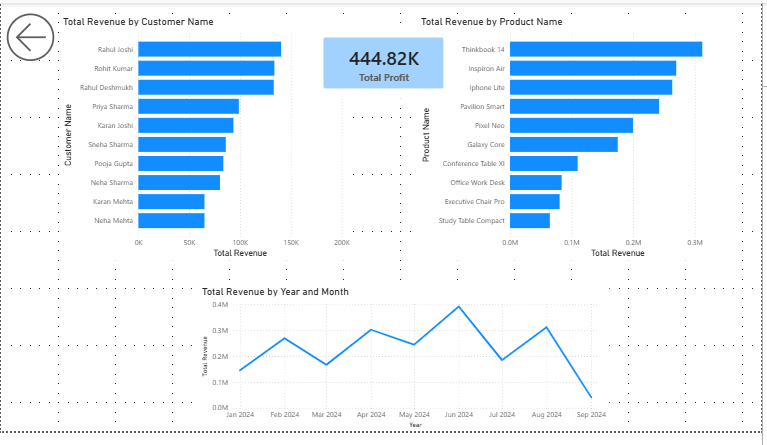

The page's visual inventory and layout, read from the dashboard file:
{"tool":"powerbi","page":{"name":"Region Deatail","canvas":[1280,720],"ordinal":5},"visuals":[{"type":"actionButton","box":[0,0,99.4,116.2],"z":0},{"type":"barChart","fields":{"Category":["Customers.Customer Name"],"Y":["Measures (2).Total Revenue"]},"box":[99.4,20.2,493.5,414.3],"z":1000},{"type":"barChart","fields":{"Y":["Measures (2).Total Revenue"],"Category":["Products.Product Name"]},"box":[702.3,20.2,537.3,414.3],"z":2000},{"type":"cardVisual","fields":{"Data":["Measures (2).Total Profit"]},"box":[525.5,40.4,237.5,121.3],"z":3000},{"type":"lineChart","fields":{"Y":["Measures (2).Total Revenue"],"Category":["Calender.Date.Variation.Date Hierarchy.Year","Calender.Date.Variation.Date Hierarchy.Month"]},"box":[333.5,474.9,690.5,245.9],"z":4000}]}

Visuals, with their boxes on the page's 1280x720 design canvas (x1, y1, x2, y2). These are canvas units, not pixel positions in the 767x445 screenshot, which may show the page scaled, cropped or inside an application window:
actionButton: left=0, top=0, right=99, bottom=116
barChart - Customers.Customer Name x Measures (2).Total Revenue: left=99, top=20, right=593, bottom=434
barChart - Measures (2).Total Revenue x Products.Product Name: left=702, top=20, right=1240, bottom=434
cardVisual - Measures (2).Total Profit: left=526, top=40, right=763, bottom=162
lineChart - Measures (2).Total Revenue x Calender.Date.Variation.Date Hierarchy.Year: left=334, top=475, right=1024, bottom=721
